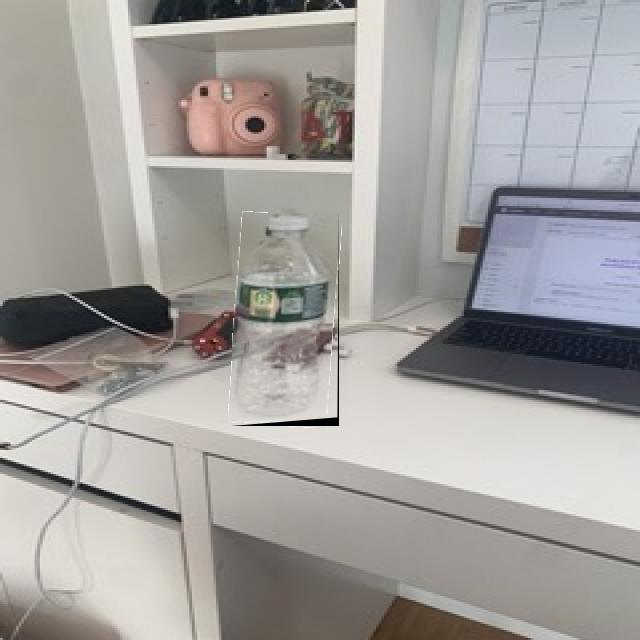water_bottle: (232, 213, 339, 426)
